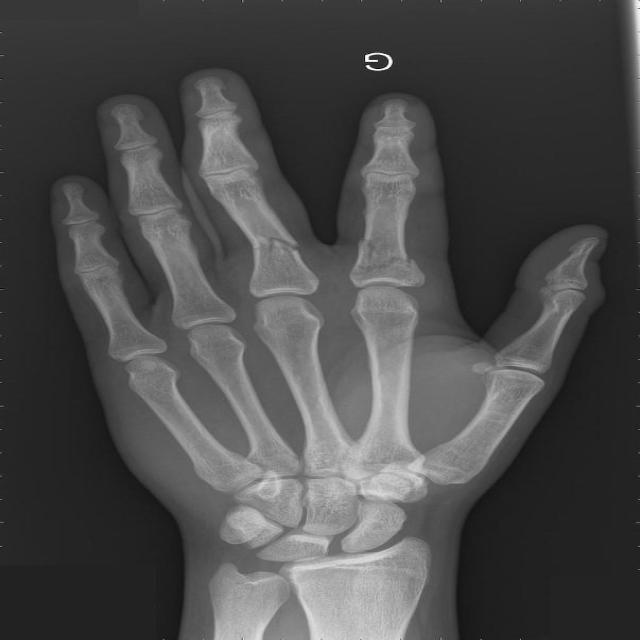fracture: (352, 235, 417, 274), (247, 233, 300, 254)
